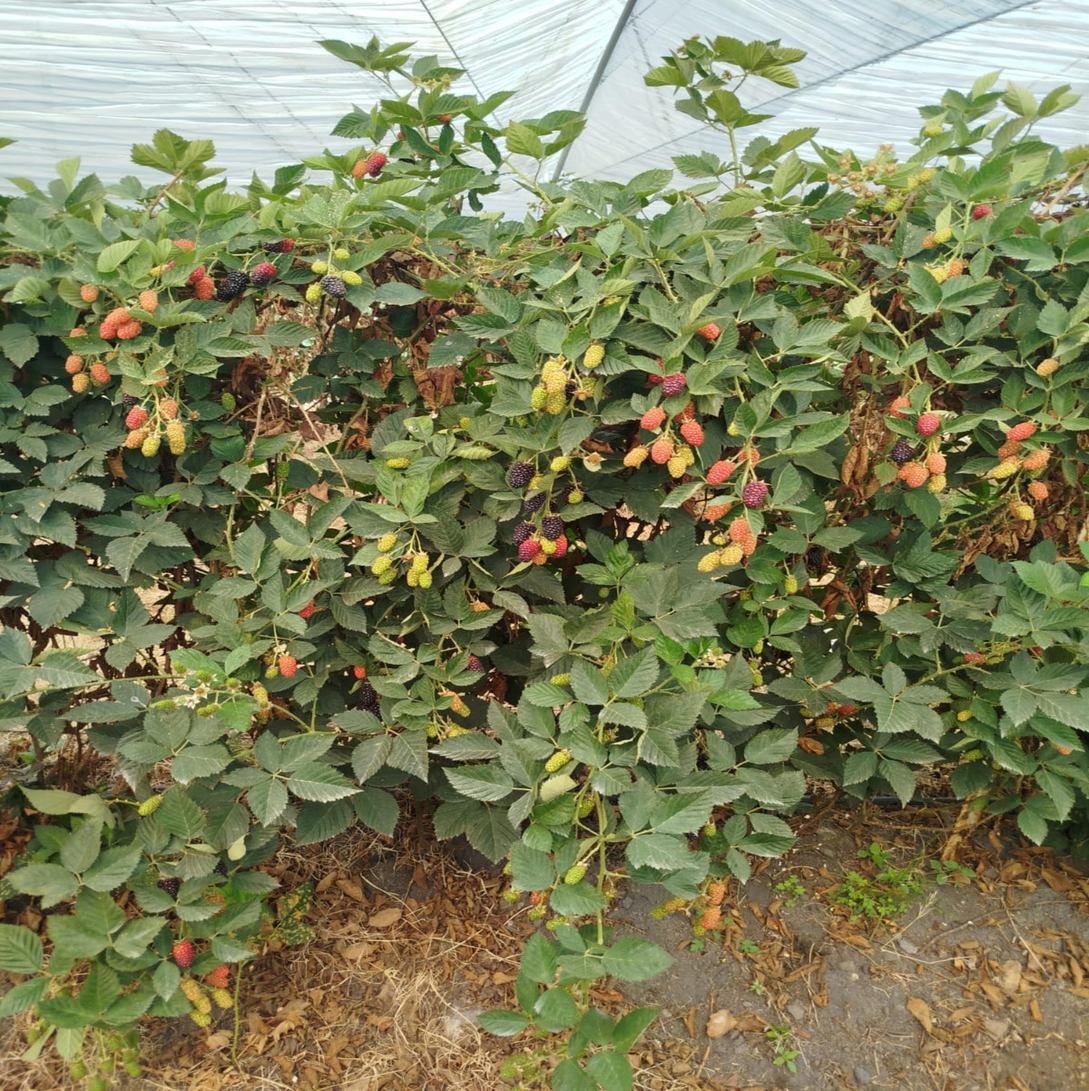flor: (193, 684, 211, 698), (183, 696, 201, 709)
maduro: (216, 271, 250, 301), (355, 681, 380, 716), (508, 462, 535, 489), (805, 545, 828, 576), (319, 275, 346, 299), (156, 877, 181, 900), (541, 516, 564, 540), (512, 522, 534, 546), (522, 493, 545, 514), (556, 483, 577, 503), (214, 860, 227, 877)
marron: (742, 480, 769, 509), (890, 438, 915, 466), (172, 939, 194, 969), (251, 263, 277, 287), (662, 373, 686, 398), (366, 152, 387, 177), (518, 539, 540, 562), (261, 239, 295, 253), (466, 654, 487, 674), (554, 535, 568, 559)
naranja: (707, 460, 736, 486), (640, 405, 666, 430), (204, 964, 230, 989), (650, 437, 674, 464), (680, 420, 704, 446), (729, 517, 753, 543), (916, 413, 941, 436), (1006, 422, 1036, 441), (125, 406, 148, 430), (888, 395, 910, 419), (1024, 449, 1049, 470), (117, 320, 142, 340), (194, 277, 215, 300), (106, 307, 131, 326), (138, 289, 158, 312), (926, 451, 946, 474), (906, 467, 929, 487), (701, 907, 721, 930), (124, 429, 147, 449), (737, 445, 760, 465), (701, 505, 728, 522), (896, 461, 920, 480), (90, 362, 110, 384), (159, 398, 178, 420), (708, 882, 725, 906), (997, 441, 1021, 458), (279, 655, 297, 677), (697, 323, 720, 340), (946, 258, 965, 278), (65, 354, 83, 375), (1027, 481, 1048, 499), (677, 401, 695, 422), (741, 537, 759, 557), (99, 321, 117, 340), (188, 265, 206, 284), (80, 284, 98, 303), (299, 601, 316, 619), (973, 204, 991, 220), (962, 652, 986, 664), (470, 599, 490, 612), (352, 160, 366, 178), (1052, 743, 1072, 755), (922, 232, 935, 249), (208, 893, 225, 906), (174, 239, 194, 250), (837, 705, 857, 716), (529, 892, 544, 906), (68, 327, 86, 338), (353, 665, 366, 679), (648, 374, 664, 385), (438, 114, 452, 124)
verde: (542, 359, 567, 396), (650, 897, 687, 919), (165, 420, 186, 455), (990, 458, 1020, 479), (544, 369, 567, 395), (545, 750, 570, 773), (623, 446, 649, 468), (583, 344, 605, 369), (180, 979, 201, 1005), (697, 549, 720, 572), (719, 544, 743, 566), (545, 391, 567, 415), (138, 795, 162, 817), (149, 259, 176, 278), (141, 432, 161, 457), (666, 454, 686, 478), (1035, 358, 1059, 377), (1010, 502, 1034, 521), (371, 555, 392, 576), (211, 989, 233, 1009), (564, 865, 586, 885), (253, 682, 269, 709), (577, 795, 595, 819), (858, 188, 878, 209), (377, 532, 397, 553), (531, 385, 547, 411), (220, 390, 236, 415), (451, 694, 469, 716), (927, 473, 946, 493), (72, 372, 90, 393), (194, 994, 212, 1014), (191, 1010, 211, 1028), (69, 1060, 87, 1080), (550, 456, 571, 473), (412, 554, 429, 574), (601, 655, 615, 679), (750, 663, 763, 688), (150, 698, 177, 710), (305, 283, 322, 301), (341, 271, 361, 286), (545, 916, 565, 931), (935, 227, 952, 244), (884, 197, 903, 212), (680, 446, 695, 465), (961, 749, 984, 761), (386, 458, 411, 469), (550, 673, 571, 686), (541, 539, 557, 556), (379, 570, 397, 585), (502, 888, 520, 903), (784, 575, 797, 595), (815, 716, 835, 729), (904, 175, 919, 192), (919, 168, 936, 182), (567, 490, 584, 504), (276, 462, 289, 480), (702, 821, 716, 837), (334, 248, 351, 261), (311, 261, 328, 274), (419, 572, 432, 589), (406, 571, 419, 588), (224, 677, 241, 690), (195, 671, 212, 683), (752, 638, 764, 655), (426, 723, 439, 738), (957, 709, 971, 722), (265, 666, 279, 679), (711, 534, 726, 546), (460, 417, 471, 430), (599, 588, 609, 598)
